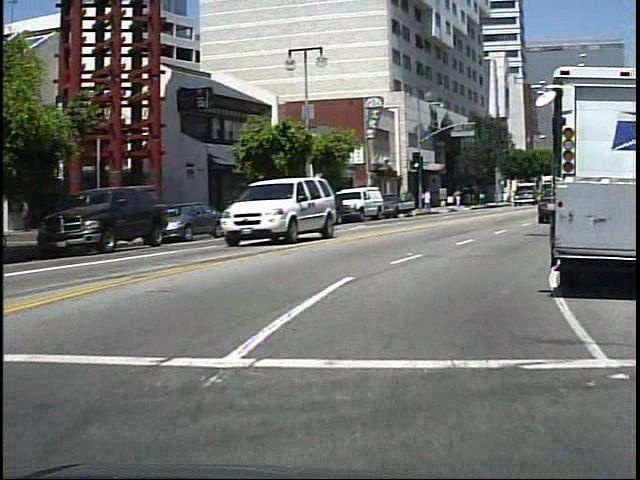person: (422, 188, 436, 215)
